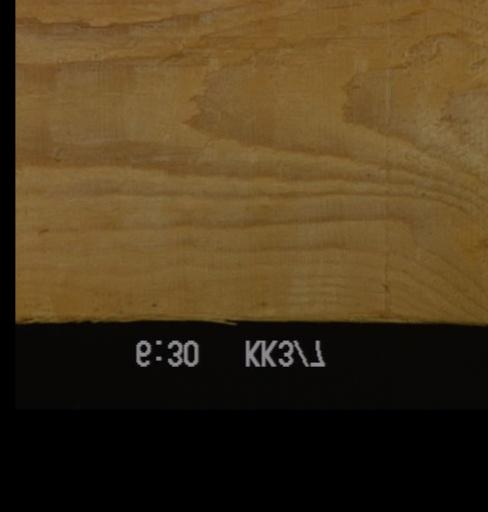wave: (15, 287, 373, 322)
